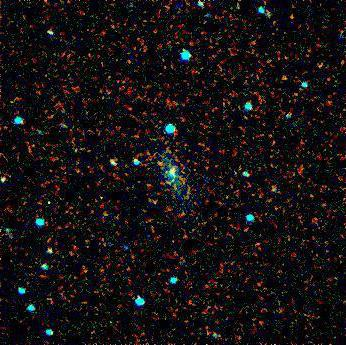star: (161, 157, 191, 187)
